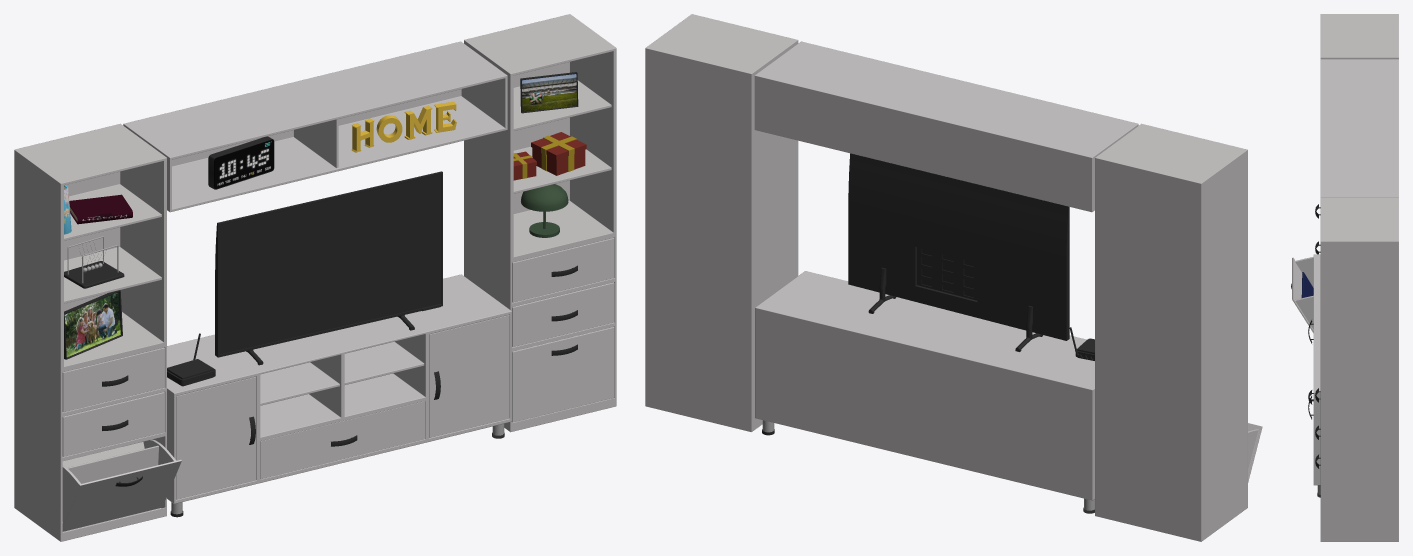
Rendered from 3d_tv_white_cabinet_with_decoration.glb.
3 views of the same model, side by side, from view 1: azimuth 30°, elevation 25°; view 2: azimuth 150°, elevation 25°; view 3: azimuth 270°, elevation 25° (orthographic). The views are drawn at different scales.
Parts seen in each view (by area): view 1: BELA_BOJA-material (×11), BELA_BOJA_001-material (×2), CRNA_2_-material (×2), CRNA-material (×2), Slika_na_Polici1-material, Material_001-material, SAT-material, Slika_na_Polici2-material, Material_002-material, Knjiga1-material, Material_003-material; view 2: BELA_BOJA_001-material (×2), BELA_BOJA-material (×2), CRNA-material; view 3: BELA_BOJA_001-material (×2), BELA_BOJA-material (×3), Casopis_Plava-material.
Boxes of the visible parts, x1,y1,x2,y2 form: BELA_BOJA-material (×11): [62, 41, 614, 531]; BELA_BOJA_001-material (×2): [14, 14, 616, 541]; CRNA_2_-material (×2): [167, 174, 440, 386]; CRNA-material (×2): [64, 171, 442, 357]; Slika_na_Polici1-material: [64, 292, 120, 357]; Material_001-material: [351, 101, 456, 152]; SAT-material: [214, 139, 273, 188]; Slika_na_Polici2-material: [522, 74, 576, 111]; Material_002-material: [521, 184, 568, 237]; Knjiga1-material: [69, 194, 132, 224]; Material_003-material: [531, 132, 586, 175]; BELA_BOJA_001-material (×2): [645, 14, 1247, 541]; BELA_BOJA-material (×2): [754, 41, 1138, 500]; CRNA-material: [848, 153, 1069, 340]; BELA_BOJA_001-material (×2): [1320, 14, 1398, 541]; BELA_BOJA-material (×3): [1292, 59, 1398, 485]; Casopis_Plava-material: [1301, 272, 1313, 297].
Bounding box in the file's own units: 3.26 × 2.02 × 0.6535.
Materials: 18 (5 with a texture image).
